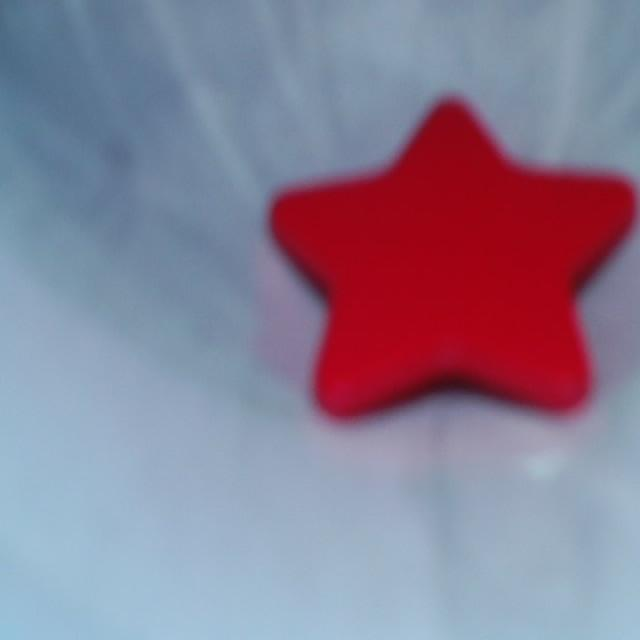star: (269, 103, 634, 414)
